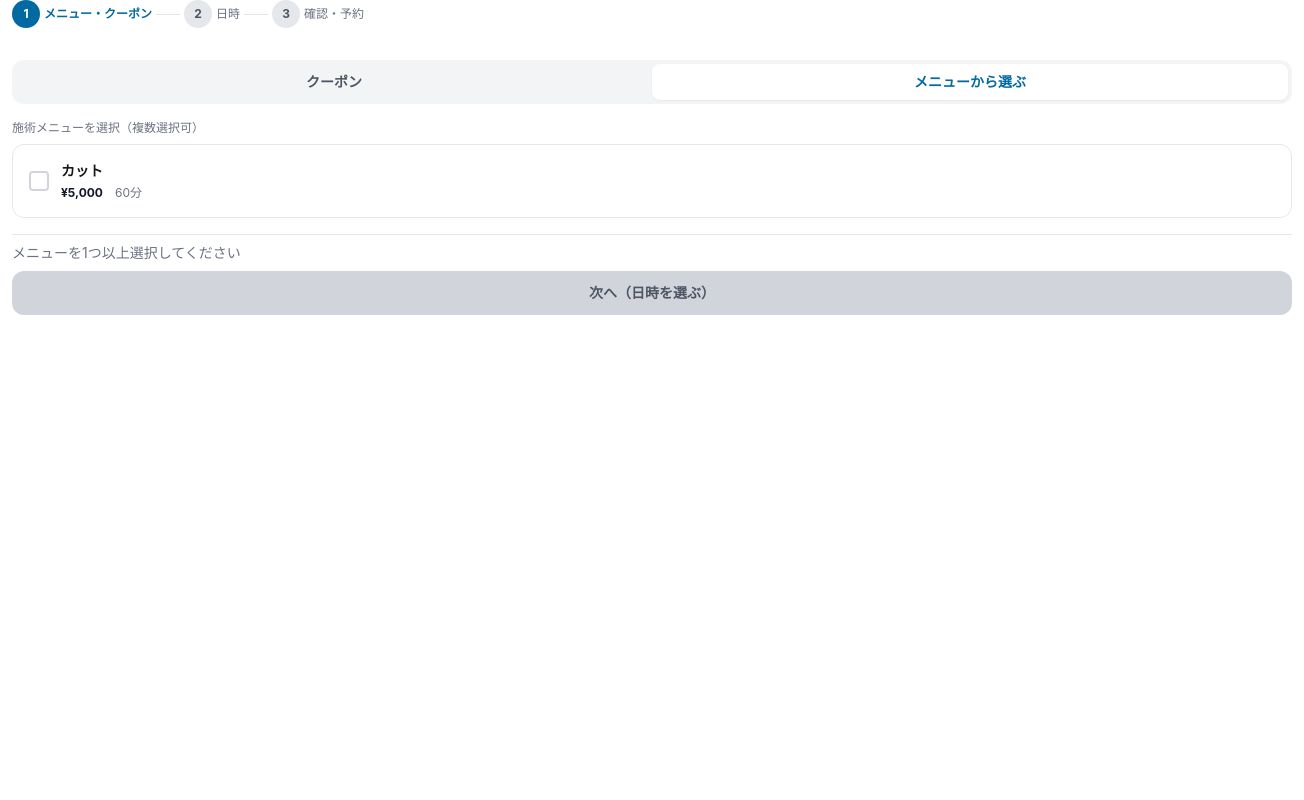
Test case: defect1: /api/slots 取得失敗の顕在化 › AbortError は失敗として扱わない（エラーUIを出さない）
Click the text "カット".
click(82, 171)  # box [61,161,103,181]
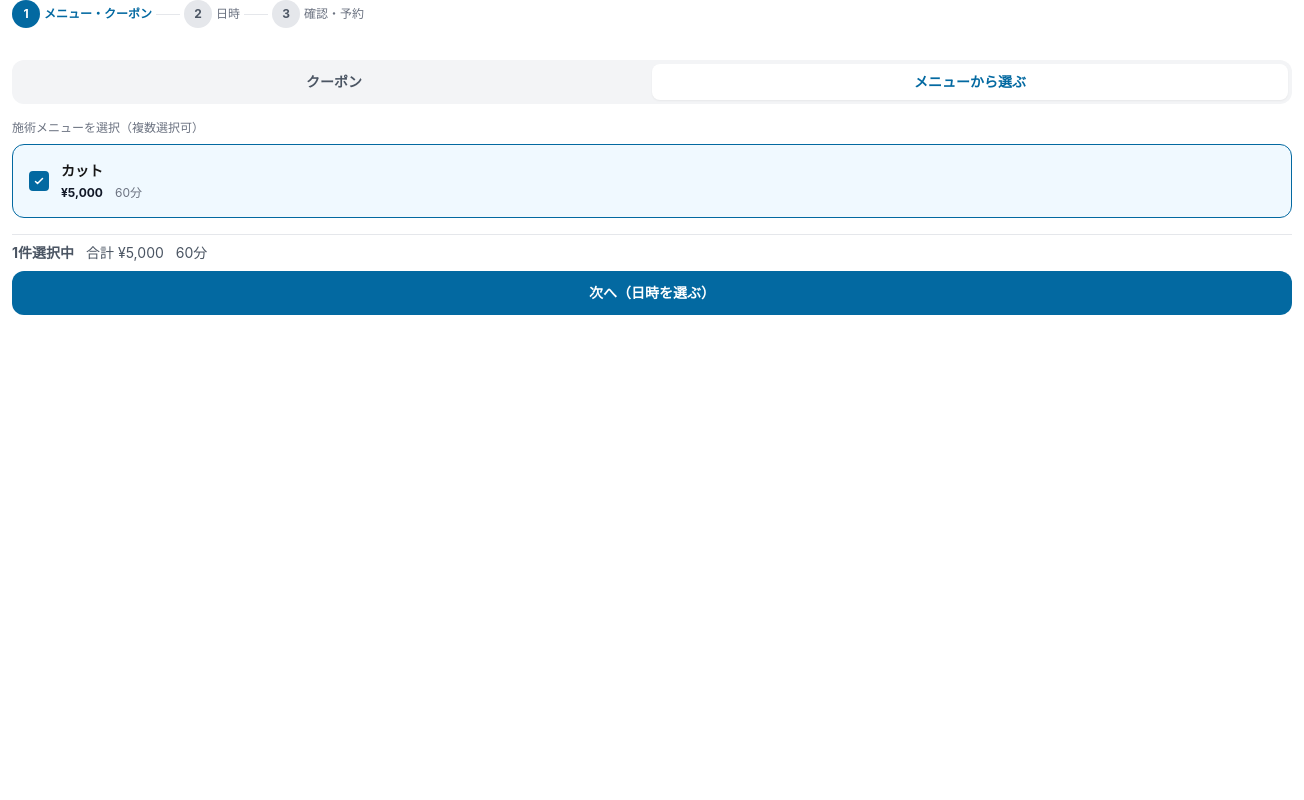
Click the button "次へ（日時を選ぶ）".
click(652, 293)  # box [12,271,1292,315]
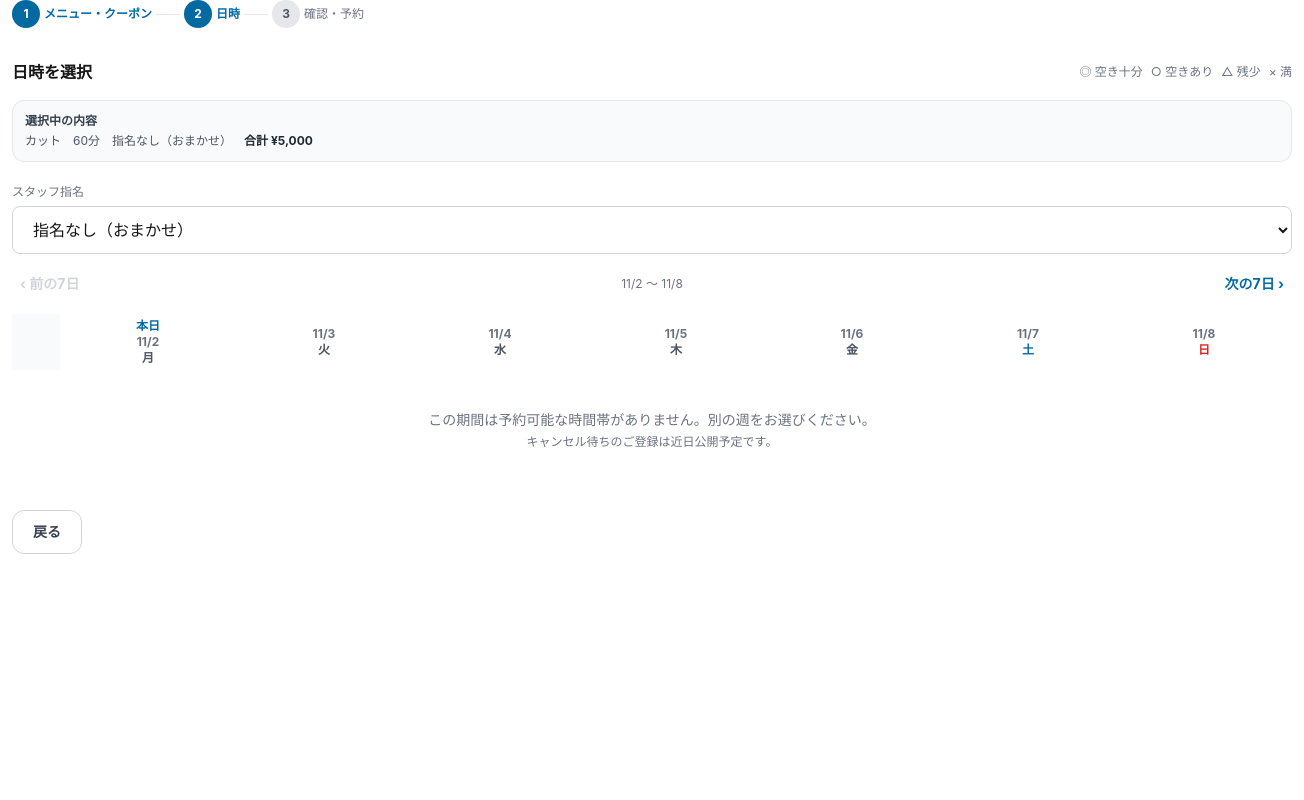
Expected: the text "この期間は予約可能な時間帯がありません。別の週をお選びください。" is shown, [428,411,876,428]
